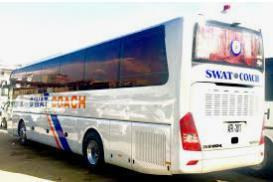bus: (13, 11, 268, 176)
